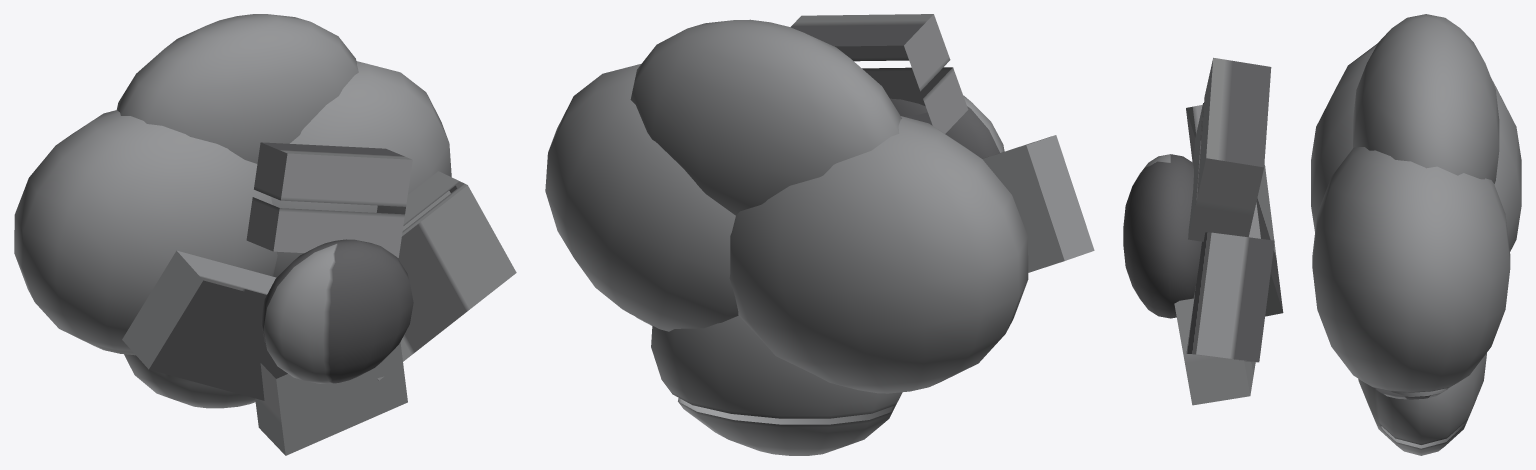
3 renders of one model, left to right at view 1: azimuth 30°, elevation 25°; view 2: azimuth 150°, elevation 25°; view 3: azimuth 270°, elevation 25°, orthographic. The views are drawn at different scales.
Bounding box in the file's own units: 0.8283 × 0.7133 × 0.6326.
